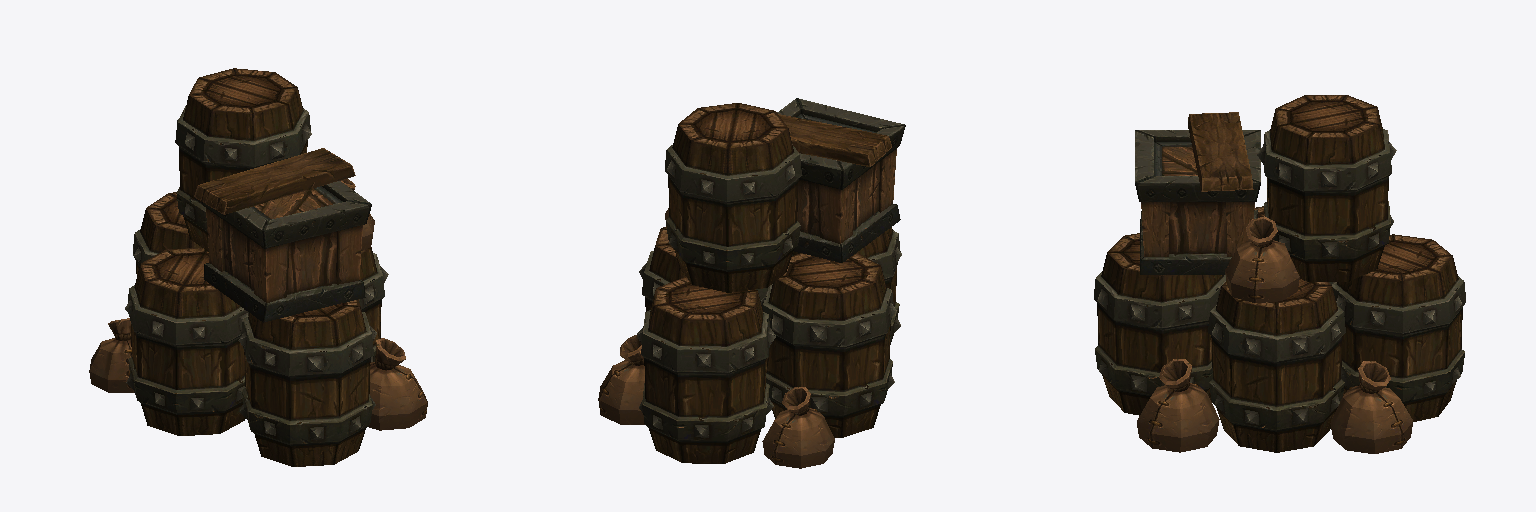
The picture shows the model from 3 angles: view 1: azimuth 30°, elevation 25°; view 2: azimuth 150°, elevation 25°; view 3: azimuth 270°, elevation 25°; orthographic projection.
Visible parts, largest first — view 1: 6OR_TradingPost_Stack03; view 2: 6OR_TradingPost_Stack03; view 3: 6OR_TradingPost_Stack03.
Part boxes in pixels (x1,y1,x2,y2): 6OR_TradingPost_Stack03: (89, 68, 427, 466); 6OR_TradingPost_Stack03: (598, 98, 905, 468); 6OR_TradingPost_Stack03: (1094, 95, 1465, 453).
Size of the model in its own units: 2.72 by 3.12 by 3.64.
2 materials, 2 textured.